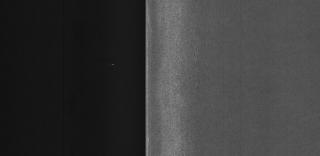silk spot: (172, 21, 216, 131)
